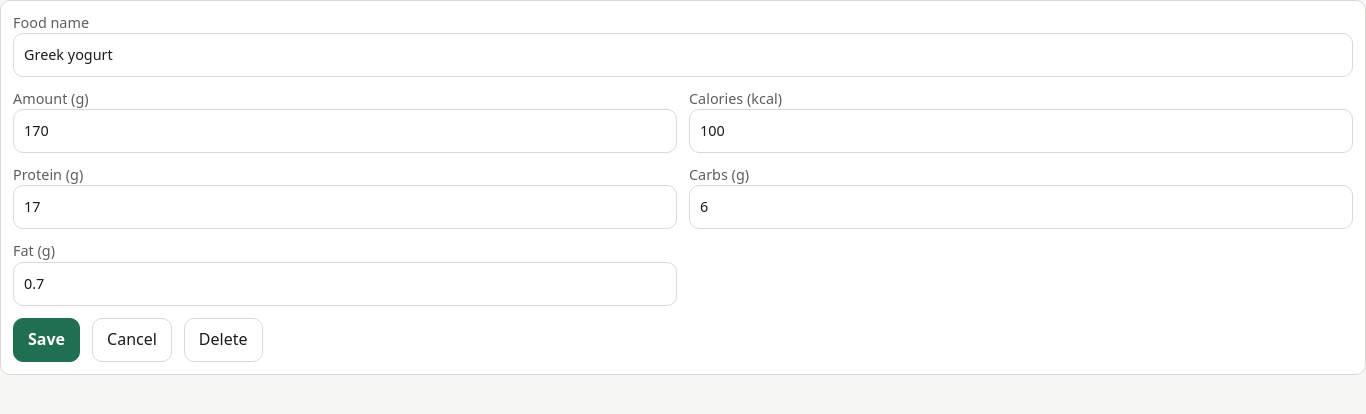
Test: EntryEditor › applies the same validation as manual entry
Replace the text in the number field labelled "Fat (g)" with "-1" at [345, 284], box [13,262,677,306]
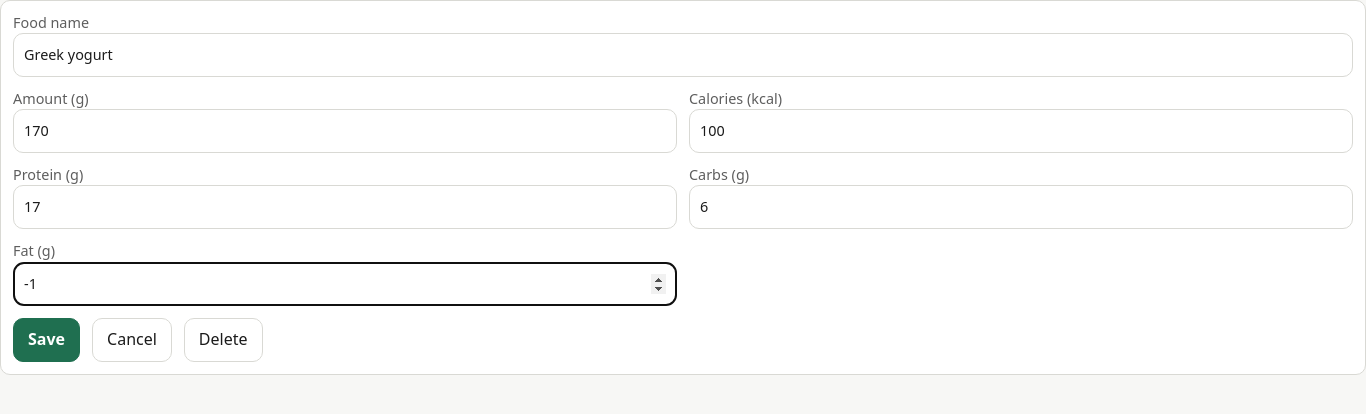
Click the button "Save" at [46, 340], box [13,318,80,362]
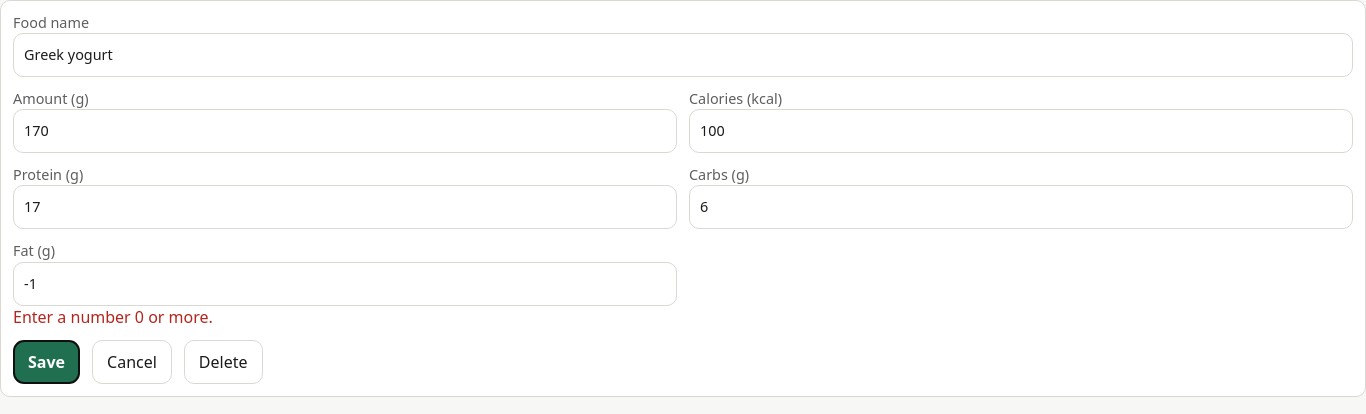
Check: the message shows "0 or more", box [13,306,213,328]
